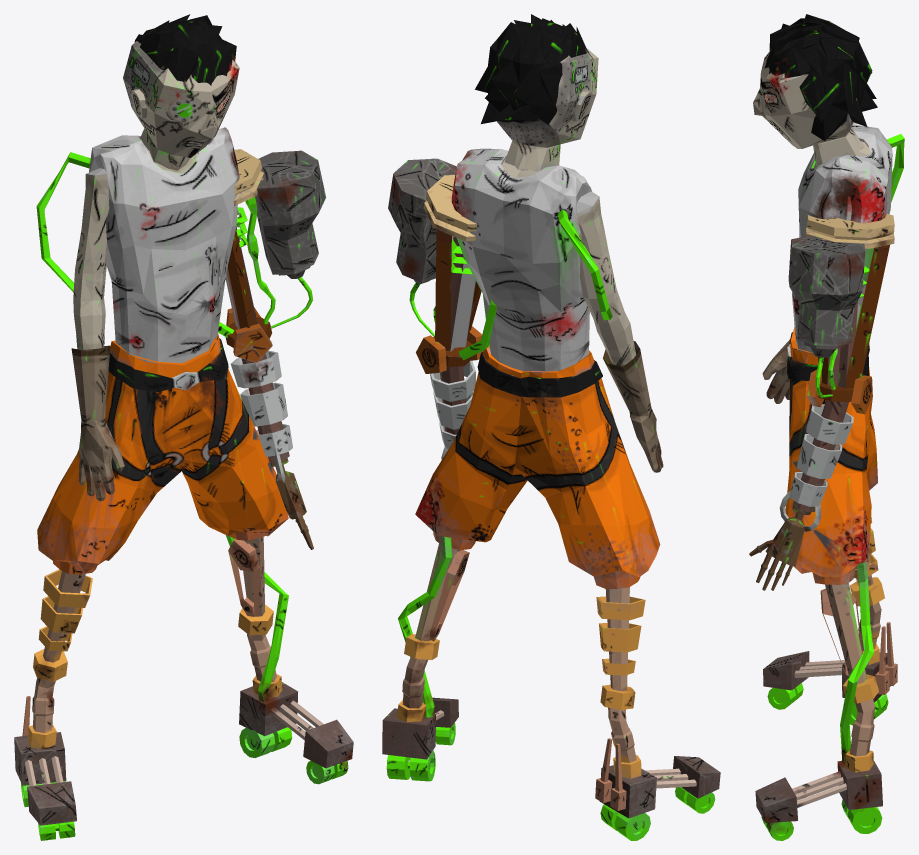
File: CyborgFINALAnimation_000035.obj
3 renders of one model, left to right at view 1: azimuth 30°, elevation 25°; view 2: azimuth 150°, elevation 25°; view 3: azimuth 270°, elevation 25°, orthographic. The views are drawn at different scales.
Parts seen in each view (by area): view 1: CyborgMesh_Cube.002; view 2: CyborgMesh_Cube.002; view 3: CyborgMesh_Cube.002.
Boxes of the visible parts, box(x1,y1,x2,y2) form: CyborgMesh_Cube.002: box(14, 14, 353, 840); CyborgMesh_Cube.002: box(382, 14, 720, 840); CyborgMesh_Cube.002: box(749, 14, 904, 840).
Size of the model in its own units: 3.99 by 9.62 by 1.8.
